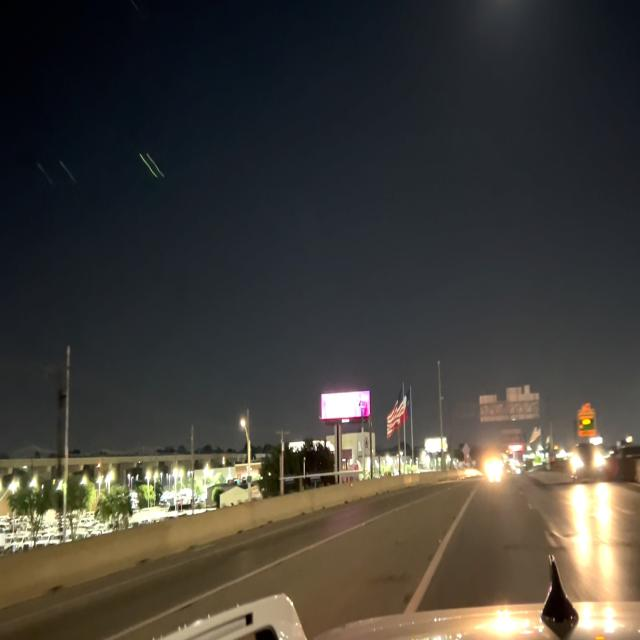back-of-sign: (475, 381, 543, 426)
